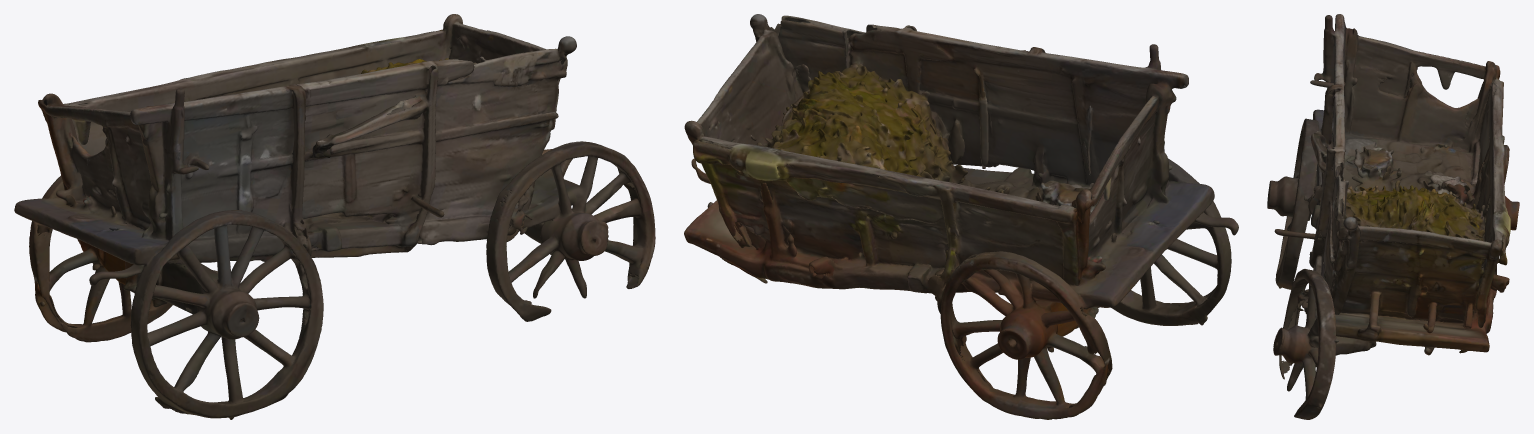
File: عربة_محطمة-2.glb
3 renders of one model, left to right at view 1: azimuth 30°, elevation 25°; view 2: azimuth 150°, elevation 25°; view 3: azimuth 270°, elevation 25°, orthographic. The views are drawn at different scales.
Visible parts, largest first — view 1: tripo_node_eed6f6ee-86c0-4de1-80b5-97e27c994294; view 2: tripo_node_eed6f6ee-86c0-4de1-80b5-97e27c994294; view 3: tripo_node_eed6f6ee-86c0-4de1-80b5-97e27c994294.
Part boxes in pixels (bbox=[...]): tripo_node_eed6f6ee-86c0-4de1-80b5-97e27c994294: bbox=[14, 14, 655, 419]; tripo_node_eed6f6ee-86c0-4de1-80b5-97e27c994294: bbox=[684, 14, 1238, 419]; tripo_node_eed6f6ee-86c0-4de1-80b5-97e27c994294: bbox=[1267, 14, 1519, 419].
Size of the model in its own units: 1 by 0.5634 by 0.4911.
Materials: 1 (1 with a texture image).
